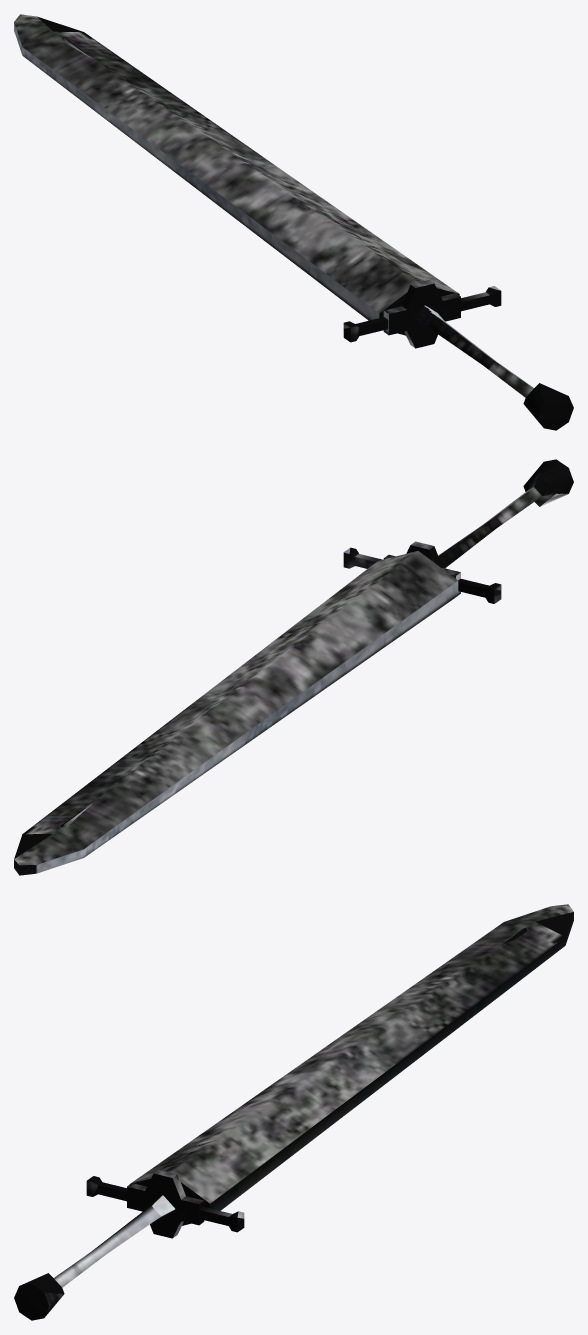
The picture shows the model from 3 angles, top to bottom: view 1: azimuth 30°, elevation 25°; view 2: azimuth 150°, elevation 25°; view 3: azimuth 330°, elevation 25°; orthographic projection.
Visible parts, largest first — view 1: mesh_0; view 2: mesh_0; view 3: mesh_0.
Part boxes in pixels (x1,y1,x2,y2): mesh_0: (14, 14, 573, 430); mesh_0: (14, 459, 573, 875); mesh_0: (14, 904, 573, 1320).
Size of the model in its own units: 9.17 by 3.38 by 54.36.
1 material, 1 textured.
